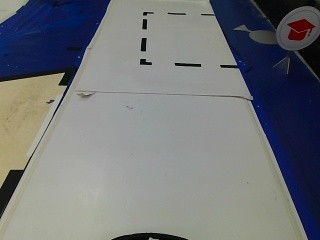school: (274, 6, 320, 51)
